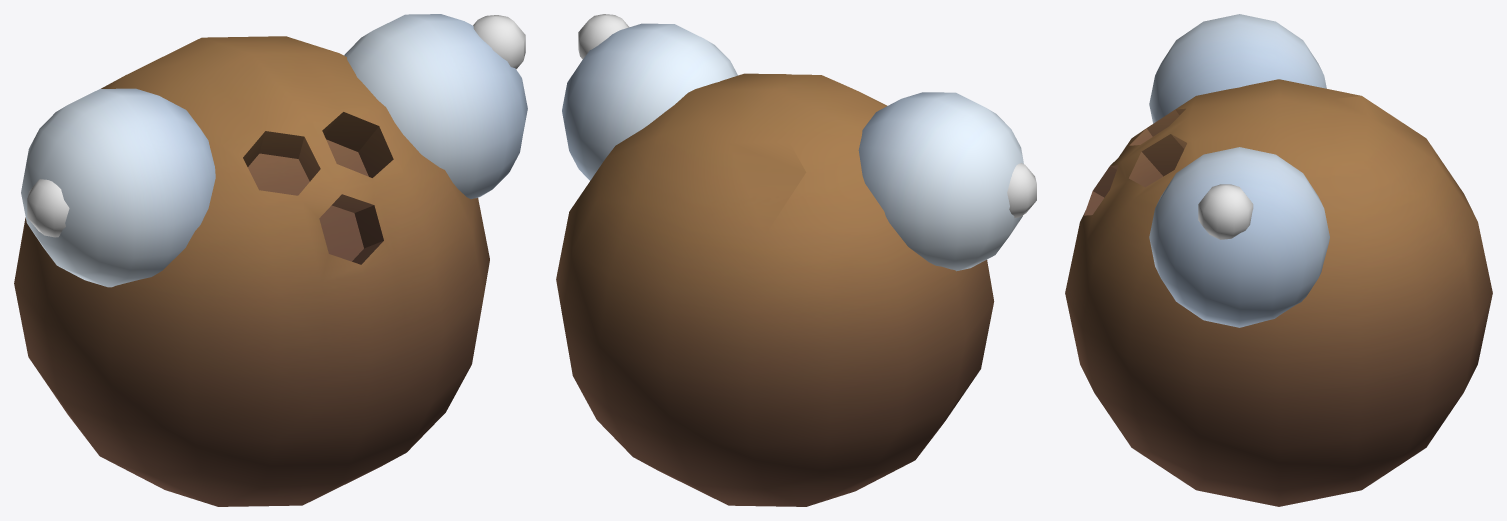
Rendered from Msh_Coco.fbx.
3 renders of one model, left to right at view 1: azimuth 30°, elevation 25°; view 2: azimuth 150°, elevation 25°; view 3: azimuth 270°, elevation 25°, orthographic. The views are drawn at different scales.
Visible parts, largest first — view 1: Msh_Coco_Body, Msh_Coco_Reye, Msh_Coco_Leye, Msh_Coco_Rpupil, Msh_Coco_Lpupil; view 2: Msh_Coco_Body, Msh_Coco_Reye, Msh_Coco_Leye, Msh_Coco_Rpupil, Msh_Coco_Lpupil; view 3: Msh_Coco_Body, Msh_Coco_Leye, Msh_Coco_Reye, Msh_Coco_Lpupil.
Boxes of the visible parts, x1=… form: Msh_Coco_Body: x1=14, y1=36, x2=489, y2=506; Msh_Coco_Reye: x1=21, y1=88, x2=215, y2=287; Msh_Coco_Leye: x1=344, y1=14, x2=527, y2=199; Msh_Coco_Rpupil: x1=27, y1=179, x2=69, y2=237; Msh_Coco_Lpupil: x1=473, y1=15, x2=525, y2=69; Msh_Coco_Body: x1=556, y1=73, x2=994, y2=506; Msh_Coco_Reye: x1=858, y1=92, x2=1023, y2=271; Msh_Coco_Leye: x1=562, y1=23, x2=737, y2=180; Msh_Coco_Rpupil: x1=1007, y1=163, x2=1036, y2=218; Msh_Coco_Lpupil: x1=578, y1=14, x2=629, y2=59; Msh_Coco_Body: x1=1065, y1=79, x2=1492, y2=506; Msh_Coco_Leye: x1=1149, y1=147, x2=1329, y2=327; Msh_Coco_Reye: x1=1149, y1=14, x2=1326, y2=123; Msh_Coco_Lpupil: x1=1198, y1=184, x2=1253, y2=239.
Size of the model in its own units: 145 by 126 by 123.
1 material, 1 textured.
